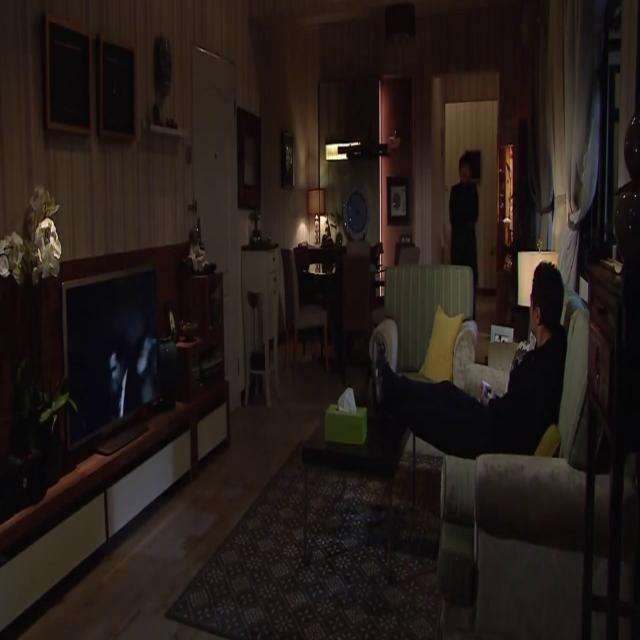People: (377, 252, 571, 497), (442, 143, 493, 304)
Table: (0, 337, 248, 640), (296, 347, 425, 564), (580, 204, 640, 640), (240, 217, 288, 420)
chair: (476, 246, 611, 618), (368, 212, 477, 425)
